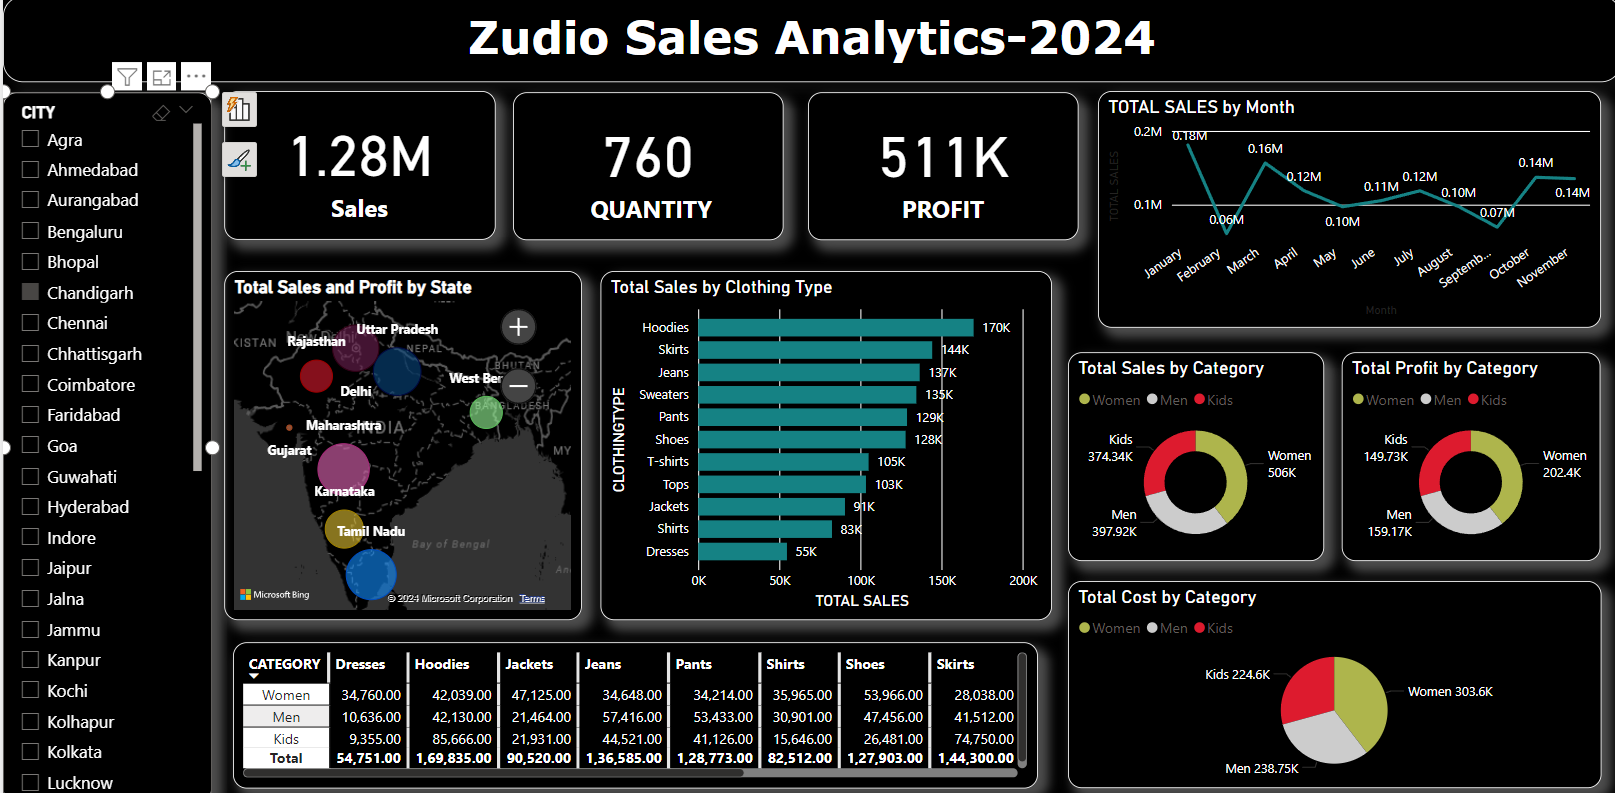

This screenshot's page, from the dashboard's own definition file:
{"tool":"powerbi","page":{"name":"Page 1","canvas":[1531,765],"ordinal":0},"visuals":[{"type":"textbox","box":[0,0,1531,81.7],"z":0},{"type":"slicer","fields":{"Values":["ZUDIO_STORE.CITY"]},"box":[0,91,197.4,673],"z":1000},{"type":"card","fields":{"Values":["ZUDIO_STORE.TOTAL SALES"]},"box":[209.3,90.3,256.6,140.5],"z":2000},{"type":"card","fields":{"Values":["Sum(ZUDIO_STORE.QUANTITY)"]},"box":[482,91,256,140],"z":3000},{"type":"card","fields":{"Values":["Sum(ZUDIO_STORE.SALESPROFIT)"]},"box":[761.4,91,256,140],"z":4000},{"type":"lineChart","fields":{"Y":["ZUDIO_STORE.TOTAL SALES"],"Category":["ZUDIO_STORE.ORDERDATE.Variation.Date Hierarchy.Quarter","ZUDIO_STORE.ORDERDATE.Variation.Date Hierarchy.Month","ZUDIO_STORE.ORDERDATE.Variation.Date Hierarchy.Day"]},"box":[1036.4,90.3,475.9,223.6],"z":5000},{"type":"barChart","title":"Total Sales by Clothing Type","fields":{"Category":["ZUDIO_STORE.CLOTHINGTYPE"],"Y":["ZUDIO_STORE.TOTAL SALES"]},"box":[565.3,260.2,426.9,330.7],"z":6000},{"type":"pivotTable","fields":{"Rows":["ZUDIO_STORE.CATEGORY"],"Columns":["ZUDIO_STORE.CLOTHINGTYPE"],"Values":["ZUDIO_STORE.TOTAL SALES"]},"box":[217.9,611.4,761.4,138.4],"z":7000},{"type":"donutChart","title":"Total Sales by Category","fields":{"Category":["ZUDIO_STORE.CATEGORY"],"Y":["ZUDIO_STORE.TOTAL SALES"]},"box":[1007.8,336.9,242.3,197.8],"z":8000},{"type":"map","title":"Total Sales and Profit by State","fields":{"Category":["ZUDIO_STORE.STATE"],"Size":["ZUDIO_STORE.TOTAL SALES"]},"box":[208.9,260.2,338.4,330.7],"z":9000},{"type":"pieChart","title":" Total Cost by Category","fields":{"Category":["ZUDIO_STORE.CATEGORY"],"Y":["Sum(ZUDIO_STORE.TOTALCOST)"]},"box":[1007.8,553.3,504.6,196.4],"z":10000},{"type":"donutChart","title":"Total Profit  by Category","fields":{"Category":["ZUDIO_STORE.CATEGORY"],"Y":["Sum(ZUDIO_STORE.SALESPROFIT)"]},"box":[1267.2,336.9,245.1,197.8],"z":11000}]}

Visuals, with their boxes in screenshot pixels (x1, y1, x2, y2):
textbox: Rect(0, 0, 1614, 78)
slicer - ZUDIO_STORE.CITY: Rect(0, 88, 205, 792)
card - ZUDIO_STORE.TOTAL SALES: Rect(218, 88, 491, 237)
card - Sum(ZUDIO_STORE.QUANTITY): Rect(508, 88, 780, 237)
card - Sum(ZUDIO_STORE.SALESPROFIT): Rect(805, 88, 1077, 237)
lineChart - ZUDIO_STORE.TOTAL SALES x ZUDIO_STORE.ORDERDATE.Variation.Date Hierarchy.Quarter: Rect(1097, 88, 1602, 325)
"Total Sales by Clothing Type" barChart: Rect(596, 268, 1050, 619)
pivotTable - ZUDIO_STORE.CATEGORY x ZUDIO_STORE.CLOTHINGTYPE: Rect(227, 641, 1036, 788)
"Total Sales by Category" donutChart: Rect(1066, 349, 1324, 560)
"Total Sales and Profit by State" map: Rect(218, 268, 577, 619)
" Total Cost by Category" pieChart: Rect(1066, 579, 1603, 788)
"Total Profit  by Category" donutChart: Rect(1342, 349, 1602, 560)
